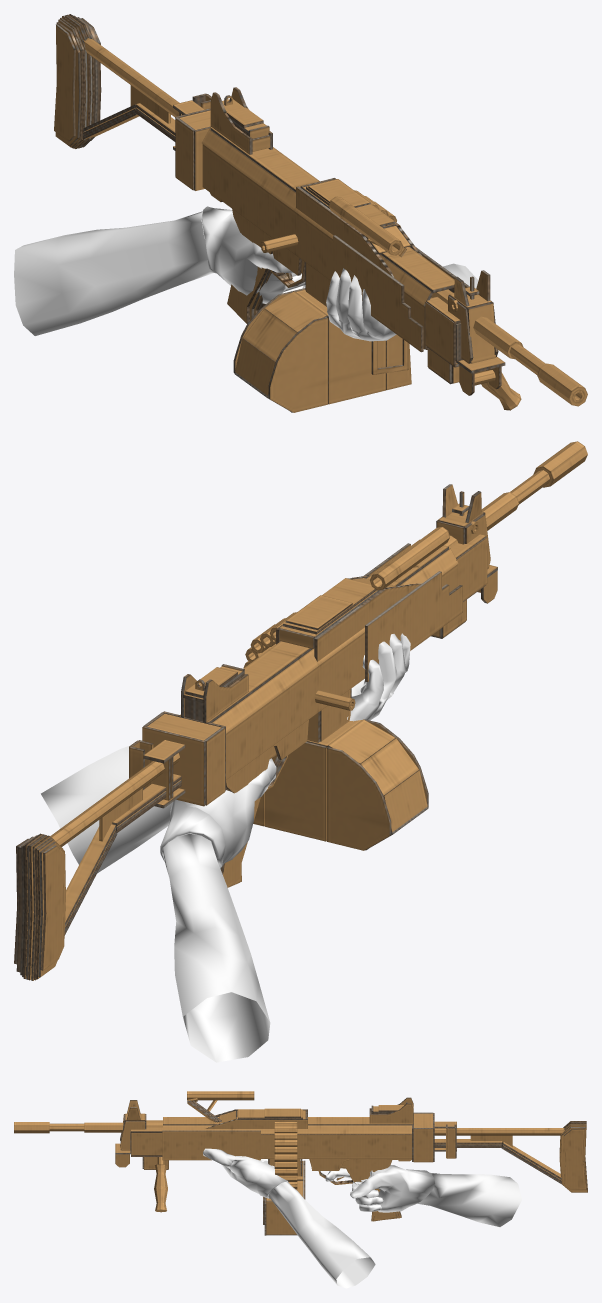
Rendered from gun1.glb.
3 views of the same model, one above another, from view 1: azimuth 30°, elevation 25°; view 2: azimuth 150°, elevation 25°; view 3: azimuth 270°, elevation 25° (orthographic). The views are drawn at different scales.
Visible parts, largest first — view 1: Cube.009_0, SMDImport.001, SMDImport.002, SMDImport.000; view 2: Cube.009_0, SMDImport.001, SMDImport.097, SMDImport.002, SMDImport.000; view 3: Cube.009_0, SMDImport.097, SMDImport.001, SMDImport.002, SMDImport.000.
Boxes of the visible parts, x1=… form: Cube.009_0: x1=54, y1=14, x2=587, y2=412; SMDImport.001: x1=14, y1=211, x2=213, y2=335; SMDImport.002: x1=201, y1=206, x2=305, y2=303; SMDImport.000: x1=326, y1=268, x2=396, y2=341; Cube.009_0: x1=14, y1=441, x2=587, y2=980; SMDImport.001: x1=162, y1=833, x2=270, y2=1062; SMDImport.097: x1=41, y1=745, x2=172, y2=873; SMDImport.002: x1=160, y1=758, x2=276, y2=868; SMDImport.000: x1=347, y1=633, x2=410, y2=721; Cube.009_0: x1=14, y1=1091, x2=587, y2=1235; SMDImport.097: x1=268, y1=1182, x2=375, y2=1288; SMDImport.001: x1=417, y1=1172, x2=521, y2=1226; SMDImport.002: x1=325, y1=1165, x2=434, y2=1212; SMDImport.000: x1=203, y1=1148, x2=287, y2=1198.
Bounding box in the file's own units: 0.0757 × 0.0587 × 0.1972.
3 materials, 1 textured.
